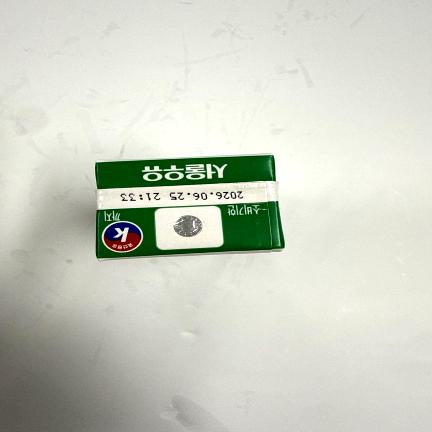milk_green: (95, 154, 284, 260)
